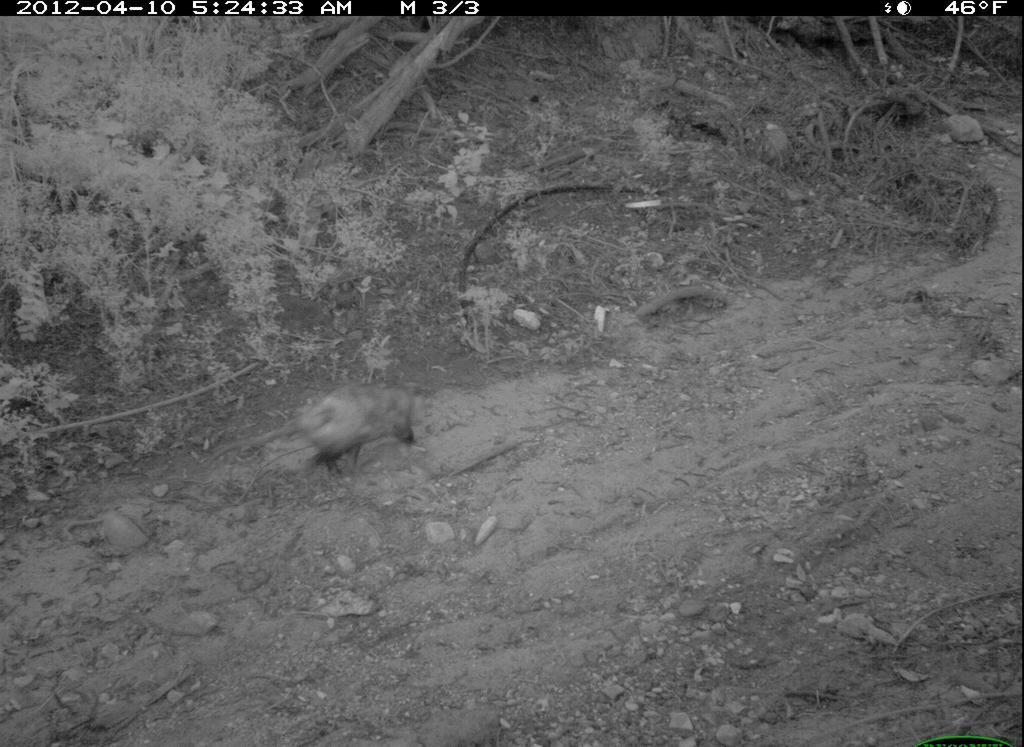opossum: (280, 372, 441, 491)
